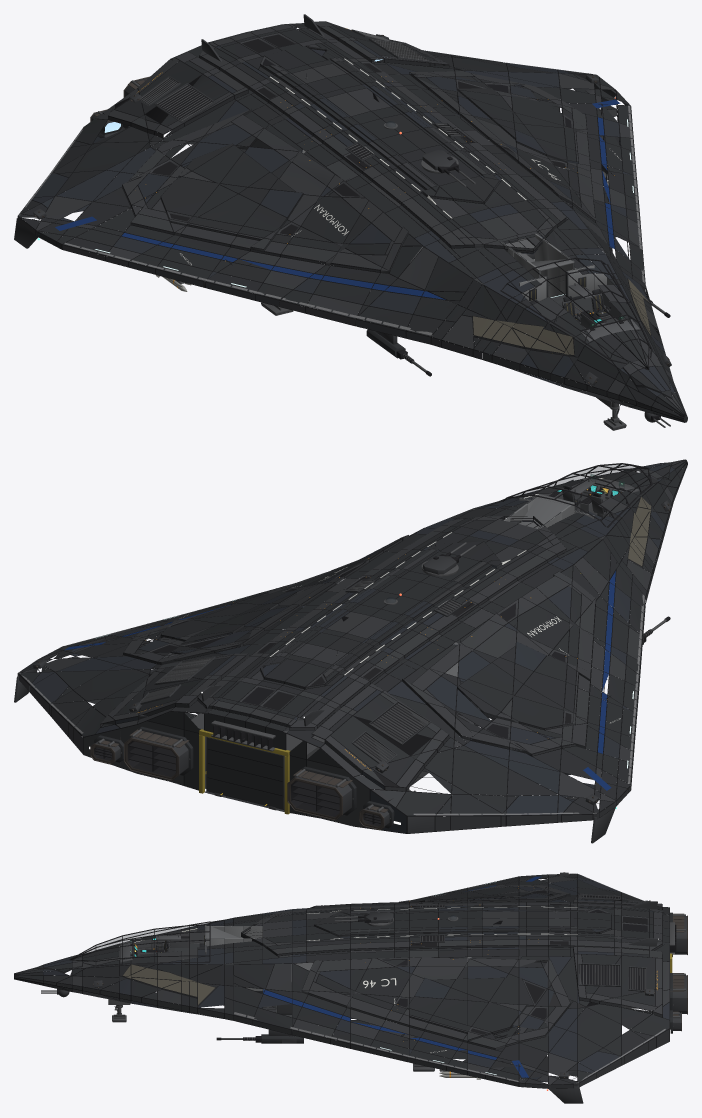
Rendered from Kormoran.587e18c33a.glb.
3 renders of one model, top to bottom at view 1: azimuth 30°, elevation 25°; view 2: azimuth 150°, elevation 25°; view 3: azimuth 270°, elevation 25°, orthographic. The views are drawn at different scales.
Visible parts, largest first — view 1: Hitzekragen.004, Duesenblock.008, Klappenfuge.104, Rumpf.003, Antenne.003, Abwurfschiene.002, Akzentbalken.004, Cockpitrueckwand.014, Kantenleiste.060, Deckenkonsole.001, Beschriftung.013, Armlehnenpolster.004; view 2: Hitzekragen.004, Duesenblock.008, Klappenfuge.104, Rumpf.003, Antenne.003, Abwurfschiene.002, Duesenrand.004, Akzentbalken.004, Kantenleiste.060, Gangdecke.001, Bodenrand.002, Deckenkonsole.001 (+2 smaller); view 3: Hitzekragen.004, Duesenblock.008, Klappenfuge.104, Rumpf.003, Antenne.003, Abwurfschiene.002, Akzentbalken.004, Deckenkonsole.001, Kantenleiste.060, Cockpitrueckwand.014, Duesenrand.004, Beschriftung.013 (+3 smaller).
Boxes of the visible parts, x1,y1,x2,y2 form: Hitzekragen.004: [18, 23, 687, 422]; Duesenblock.008: [14, 14, 684, 422]; Klappenfuge.104: [18, 21, 687, 422]; Rumpf.003: [31, 27, 683, 422]; Antenne.003: [34, 34, 670, 421]; Abwurfschiene.002: [97, 30, 670, 427]; Akzentbalken.004: [55, 99, 620, 299]; Cockpitrueckwand.014: [302, 149, 606, 301]; Kantenleiste.060: [19, 52, 644, 335]; Deckenkonsole.001: [568, 278, 639, 341]; Beschriftung.013: [180, 58, 621, 265]; Armlehnenpolster.004: [529, 276, 609, 322]; Hitzekragen.004: [19, 460, 687, 828]; Duesenblock.008: [14, 460, 687, 843]; Klappenfuge.104: [18, 459, 687, 833]; Rumpf.003: [31, 463, 674, 833]; Antenne.003: [35, 463, 670, 826]; Abwurfschiene.002: [97, 542, 666, 812]; Duesenrand.004: [35, 503, 669, 830]; Akzentbalken.004: [64, 571, 615, 790]; Kantenleiste.060: [19, 594, 644, 815]; Gangdecke.001: [411, 494, 574, 676]; Bodenrand.002: [199, 573, 580, 814]; Deckenkonsole.001: [523, 477, 639, 515]; Hitzekragen.004: [14, 873, 672, 1084]; Duesenblock.008: [14, 872, 686, 1103]; Klappenfuge.104: [14, 873, 669, 1088]; Rumpf.003: [15, 877, 669, 1082]; Antenne.003: [57, 872, 676, 1078]; Abwurfschiene.002: [41, 894, 685, 1071]; Akzentbalken.004: [263, 876, 541, 1077]; Deckenkonsole.001: [119, 928, 204, 962]; Kantenleiste.060: [234, 873, 665, 1083]; Cockpitrueckwand.014: [205, 925, 276, 1012]; Duesenrand.004: [93, 872, 687, 1078]; Beschriftung.013: [307, 895, 577, 1052].
Bounding box in the file's own units: 34.02 × 7.96 × 46.04.
